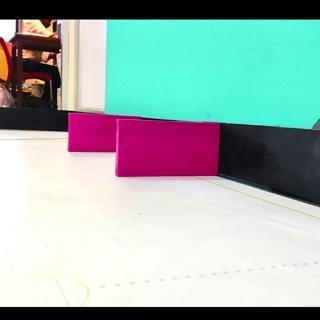xparking: (118, 125, 220, 177), (70, 111, 112, 150)
